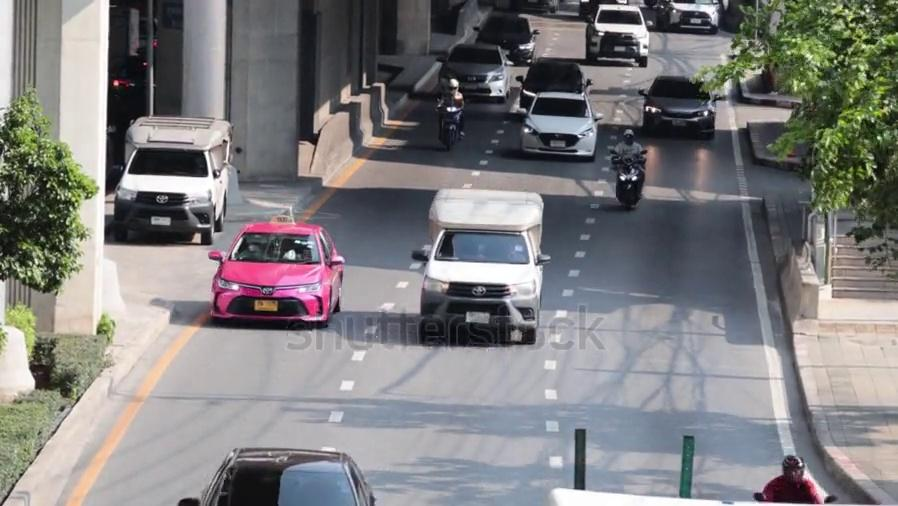rider: (753, 454, 825, 504), (611, 128, 651, 210), (435, 77, 465, 150)
with_helmate: (779, 454, 808, 484), (444, 79, 459, 95), (622, 131, 637, 144)
